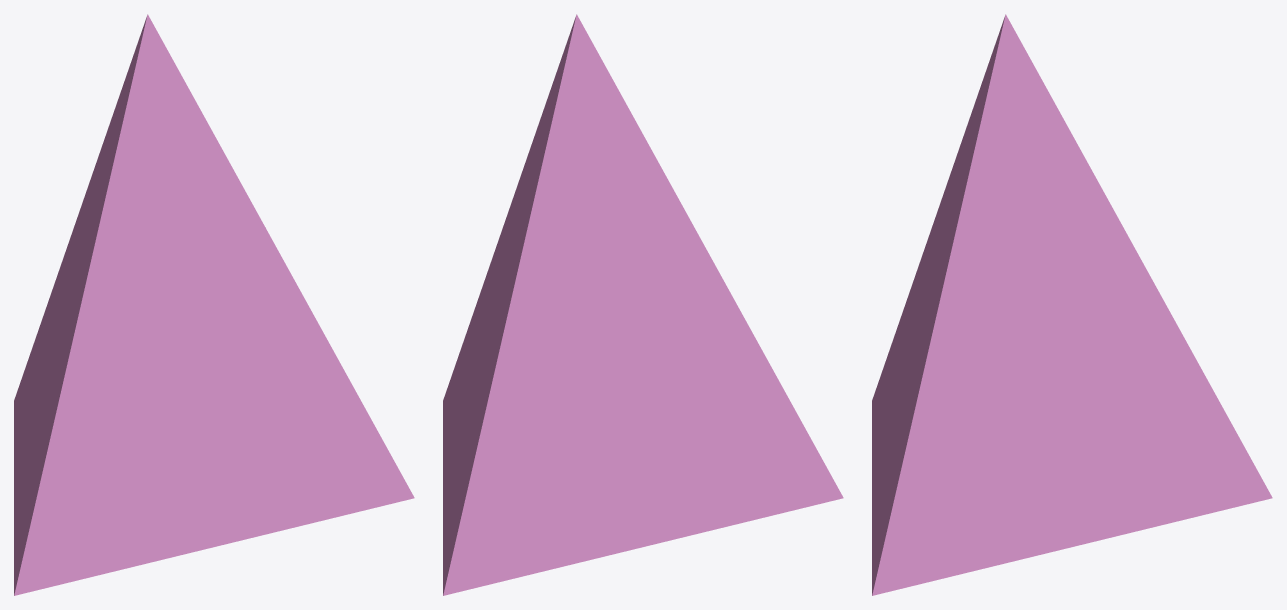
3 views of the same model, side by side, from view 1: azimuth 30°, elevation 25°; view 2: azimuth 150°, elevation 25°; view 3: azimuth 270°, elevation 25° (orthographic).
Parts seen in each view (by area): view 1: Cone.001; view 2: Cone.001; view 3: Cone.001.
Part boxes in pixels (x1=…): Cone.001: x1=14, y1=14, x2=414, y2=595; Cone.001: x1=443, y1=14, x2=843, y2=595; Cone.001: x1=872, y1=14, x2=1272, y2=595.
Bounding box in the file's own units: 2.92 × 3.37 × 2.53.
